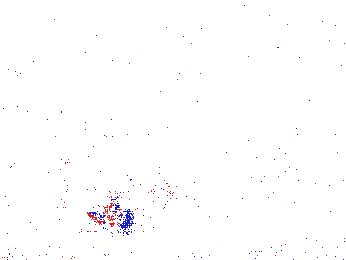flame jellyfish: (87, 171, 175, 229), (53, 148, 122, 201), (19, 157, 76, 210)
